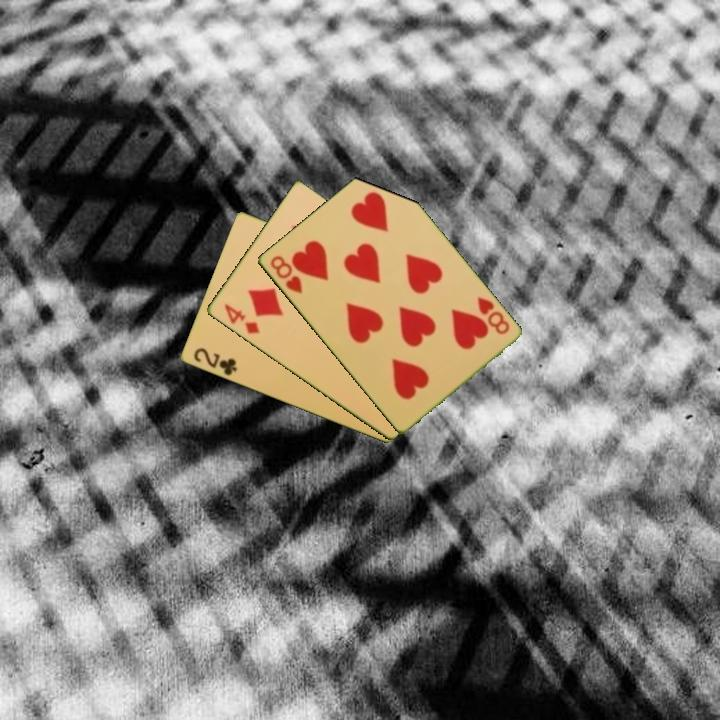2c: (190, 344, 240, 379)
4d: (220, 300, 263, 337)
8h: (266, 252, 305, 297), (473, 293, 512, 337)
